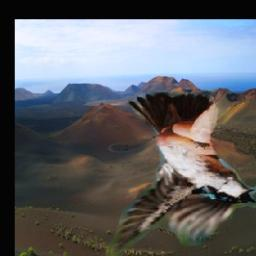Swallow: (100, 93, 256, 256)
